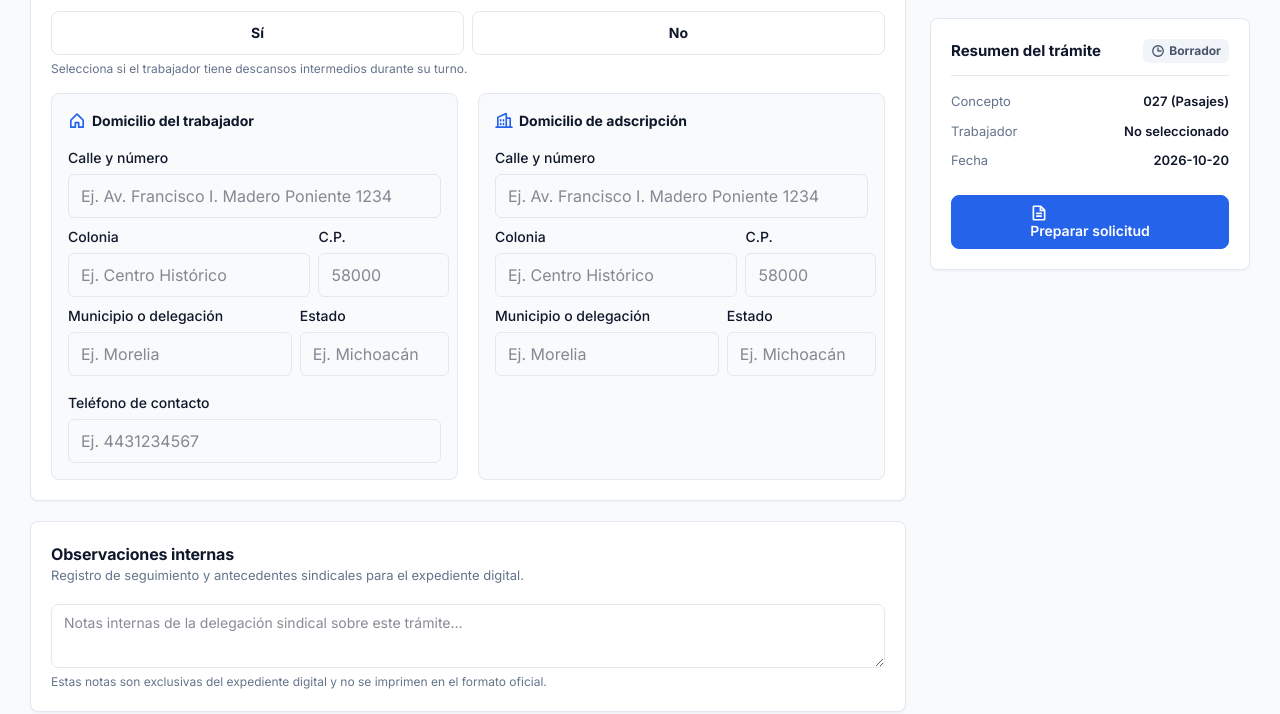
PassageWizard UI Workflow & Interactions › permite copiar municipio y estado del trabajador al de adscripción en 027
(page scrolled)
Type "Morelia" into the field labelled "Municipio o delegación" below "Domicilio del trabajador". click: (180, 354)
box: [68, 332, 292, 376]
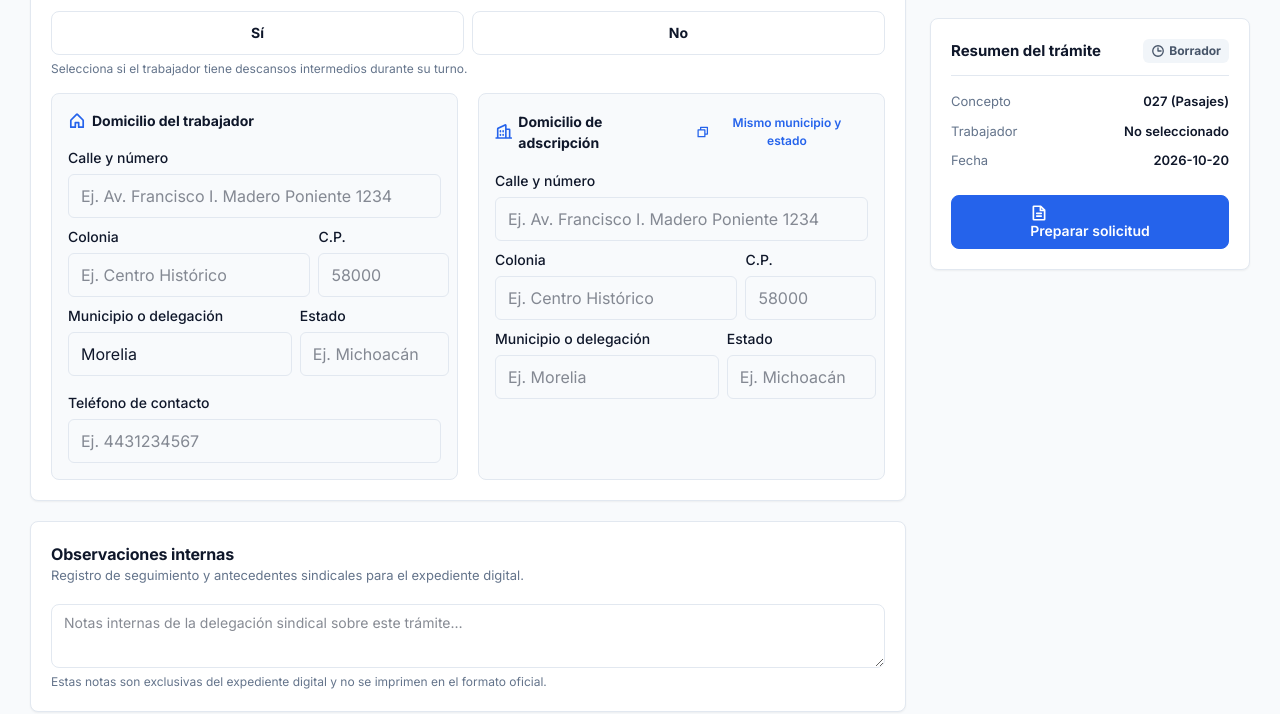
Type "Michoacán" into the field labelled "Estado" below "Domicilio del trabajador". click: (374, 354)
box: [300, 332, 449, 376]
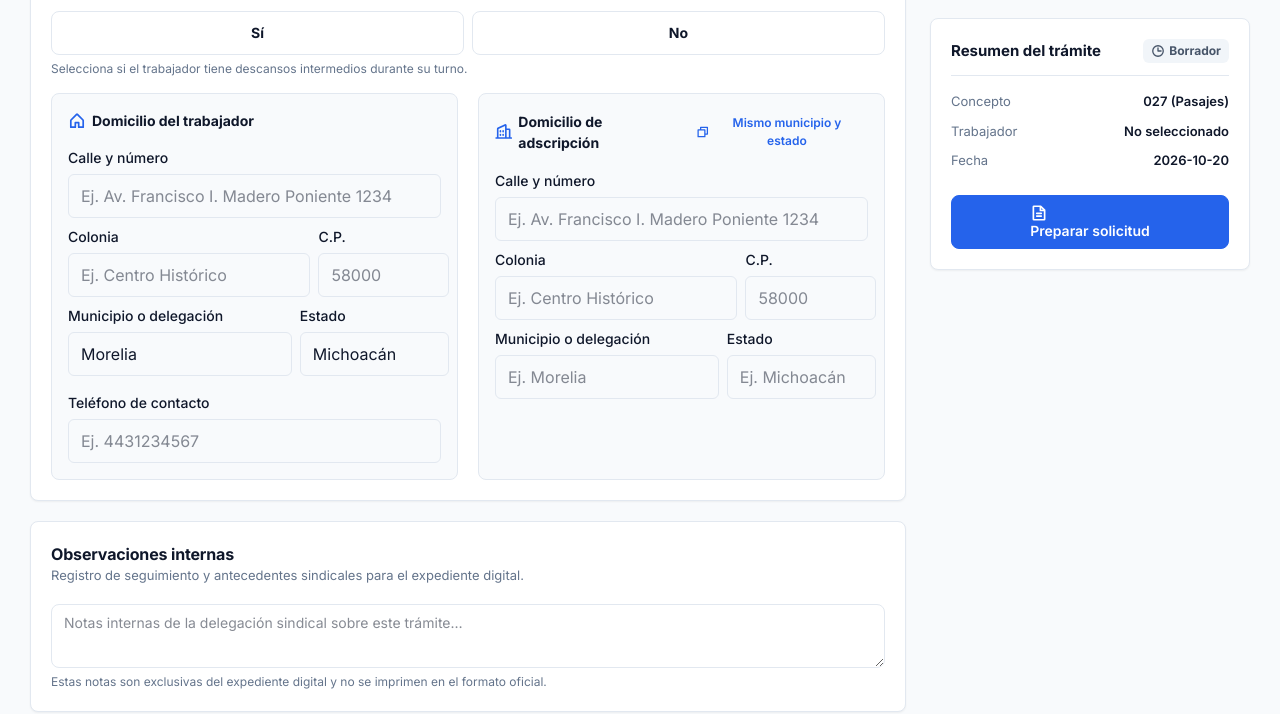
Click the button "Mismo municipio y estado". click: (778, 132)
box: [688, 110, 868, 154]
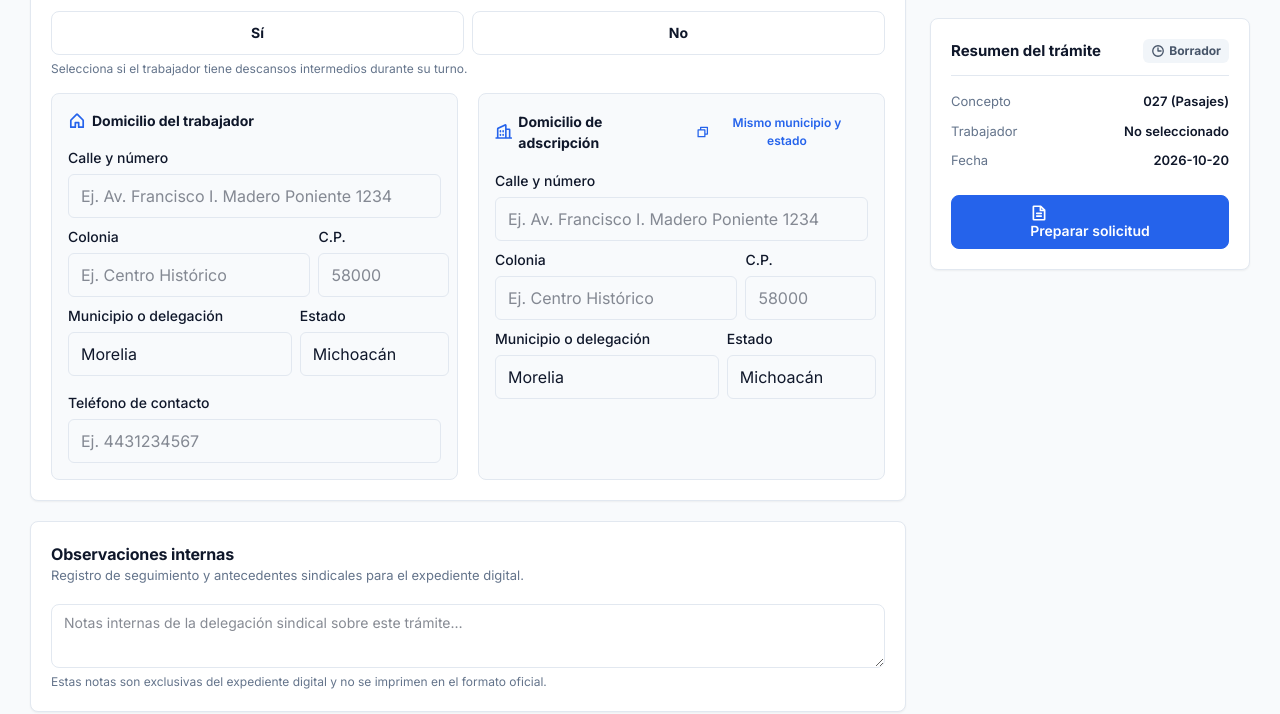
Check: the field labelled "Municipio o delegación" below "Domicilio de adscripción" holds "Morelia", box [495, 355, 719, 399]
Check: the field labelled "Estado" below "Domicilio de adscripción" holds "Michoacán", box [727, 355, 876, 399]
